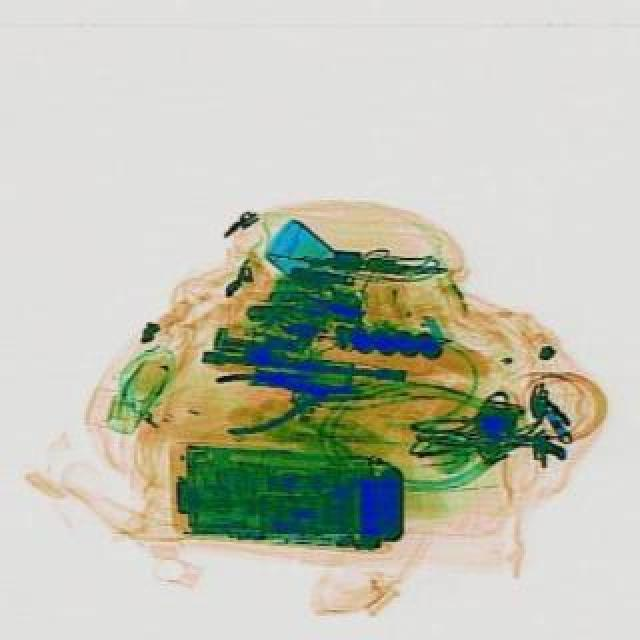wrench: (212, 358, 374, 434)
